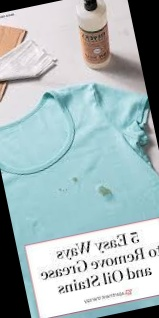oil: (95, 175, 119, 199), (52, 183, 71, 205), (71, 171, 82, 185)
